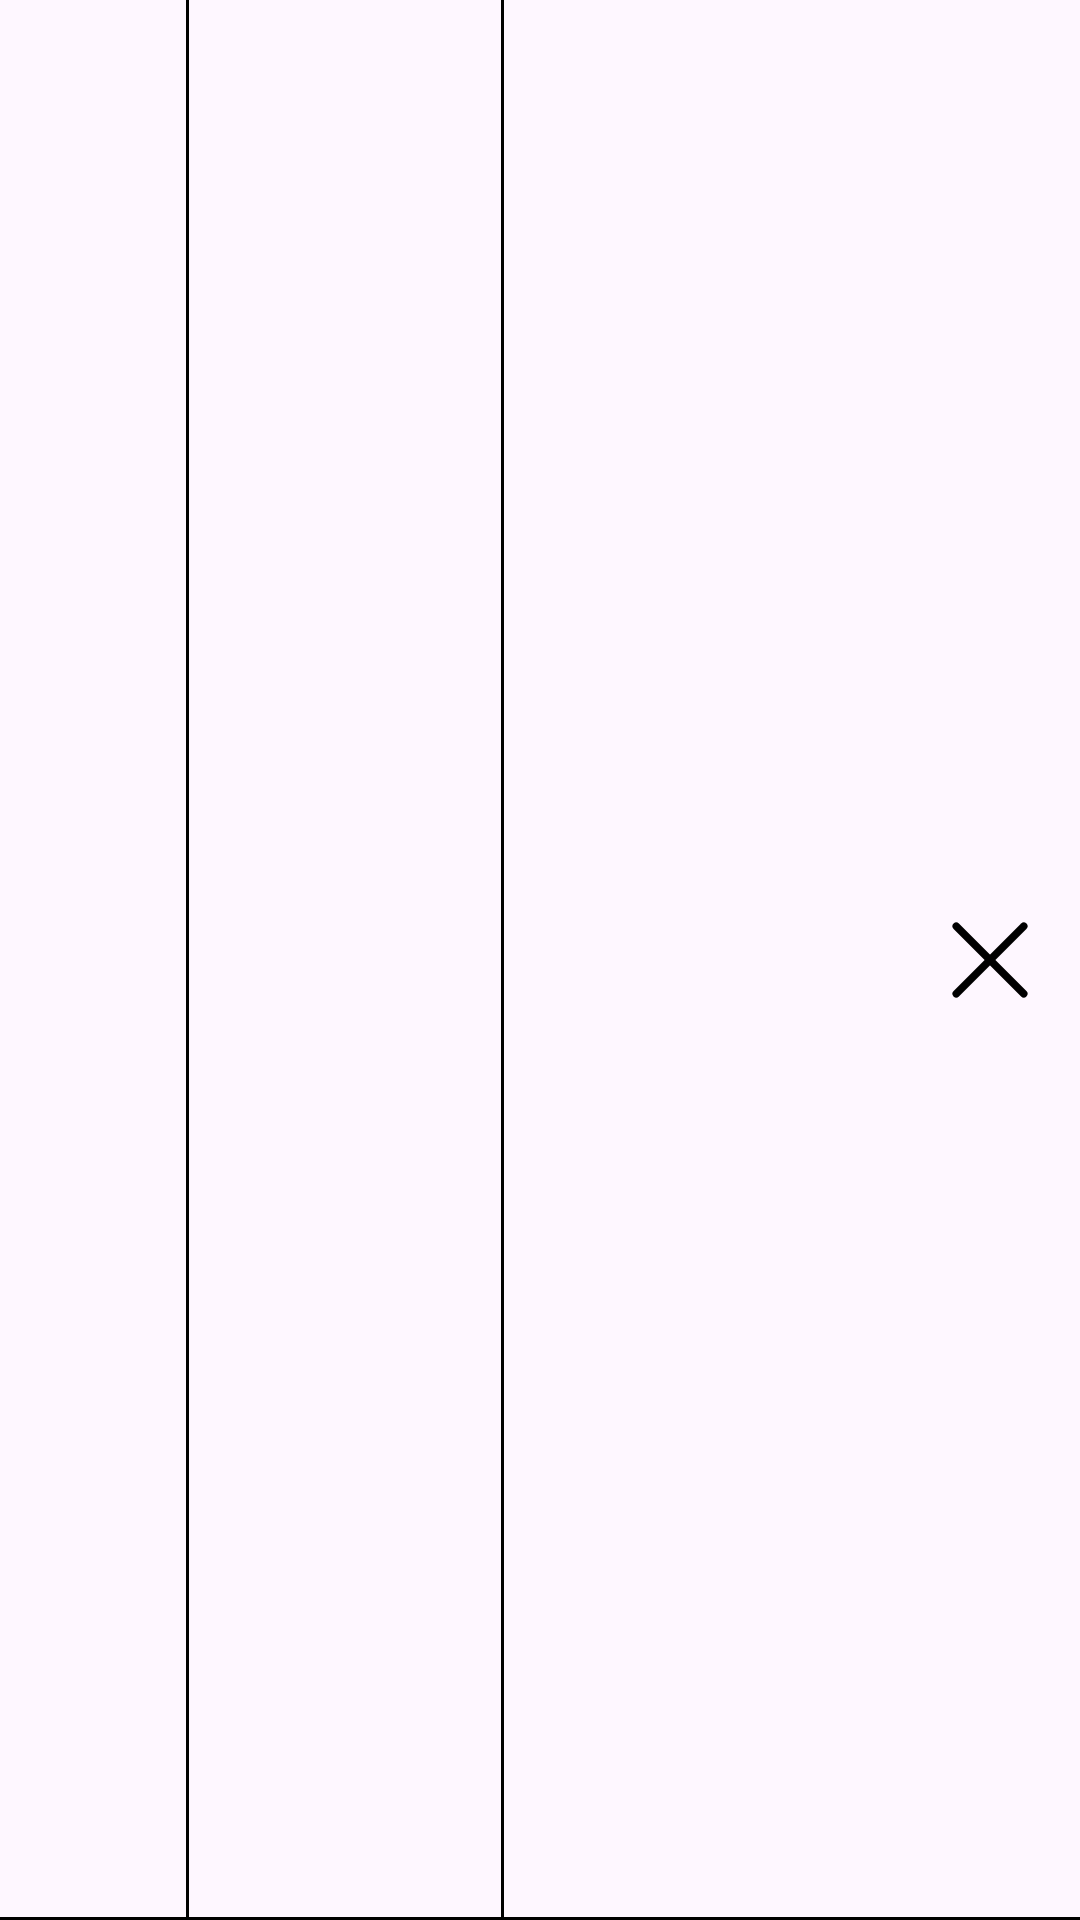

Where to tap for icons on this 1080w x 1920h app screen, as (x,y):
delete: (990,960)
